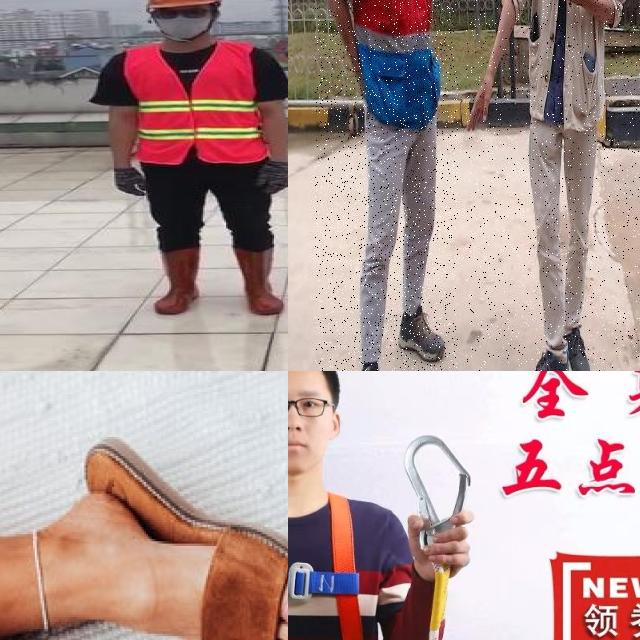Sandals: (63, 432, 288, 640)
boots: (397, 303, 452, 368), (234, 247, 288, 313), (155, 248, 203, 314), (502, 336, 570, 371), (552, 330, 601, 371), (346, 356, 385, 371)
face_mask: (147, 1, 218, 40)
glasses: (145, 4, 218, 22)
hand_glove: (252, 160, 288, 194), (112, 165, 144, 197)
head_helmet: (137, 0, 226, 11)
person: (92, 0, 288, 325), (465, 0, 632, 371), (319, 0, 457, 371)
vest: (125, 44, 267, 163), (348, 0, 447, 124)
